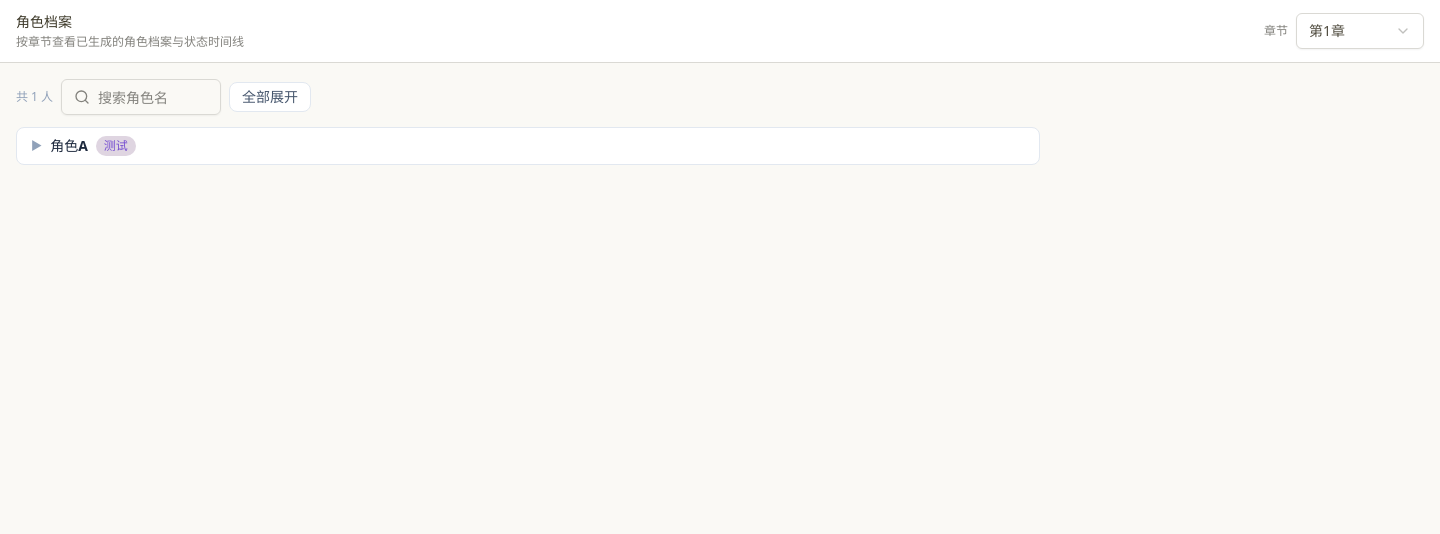
Test: CharacterArchivePage › 全部展开/折叠 toggle 可切换
This screenshot has width=1440, height=534.
Click the button "全部展开": (270, 97) [229,82,311,112]
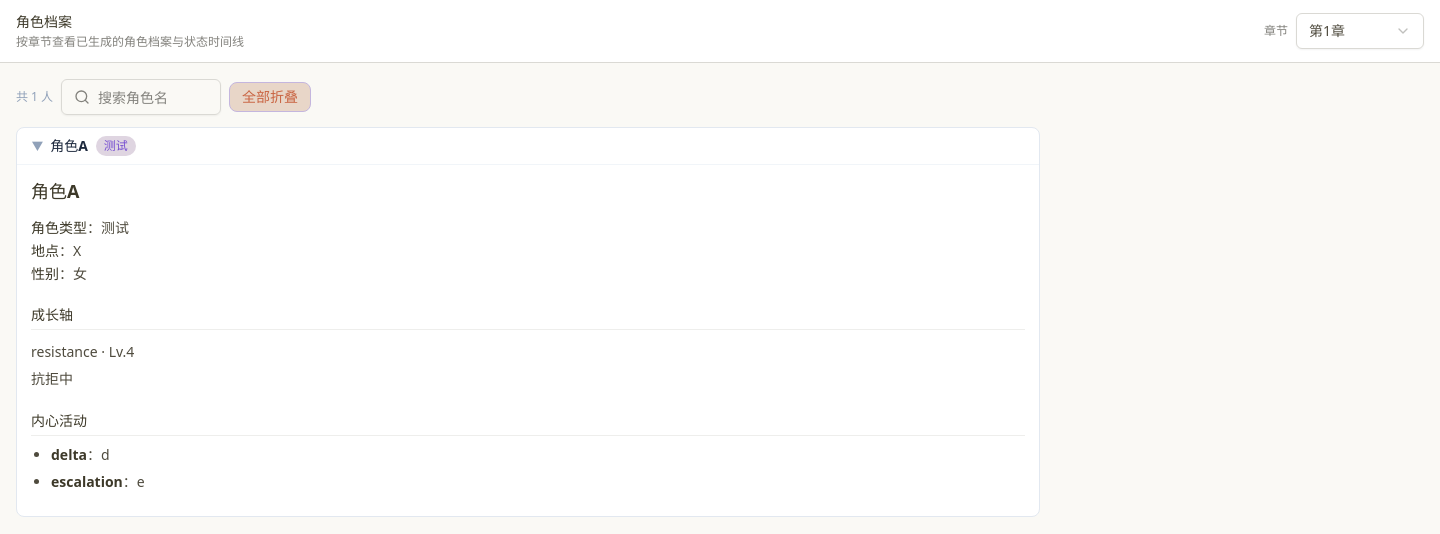
Expected: the button "全部折叠" is shown
Click the button "全部折叠": (270, 97) [229,82,311,112]
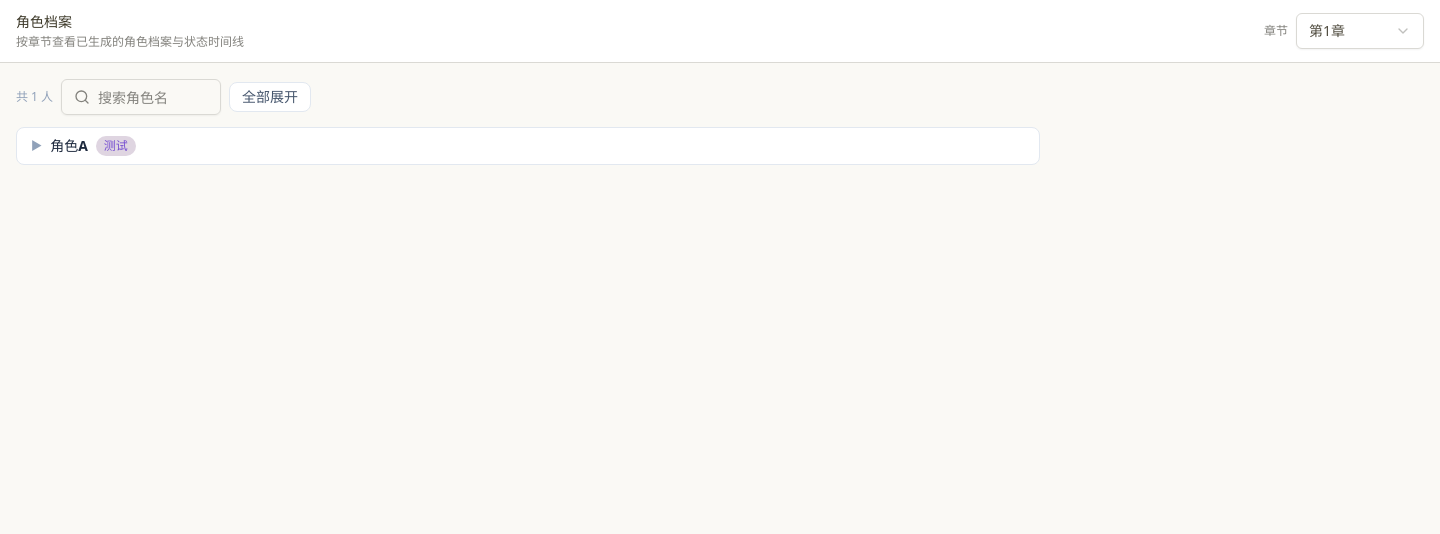
Expected: the button "全部展开" is shown, [229,82,311,112]
